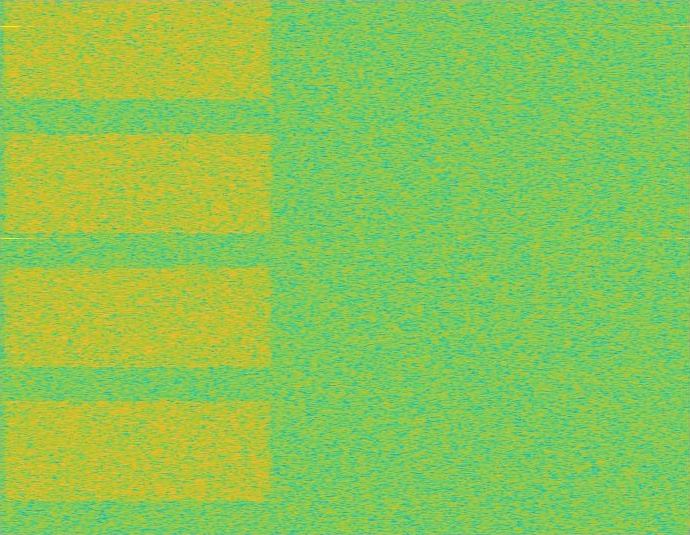5G: (0, 0, 276, 534)
Radar: (4, 0, 17, 534)
